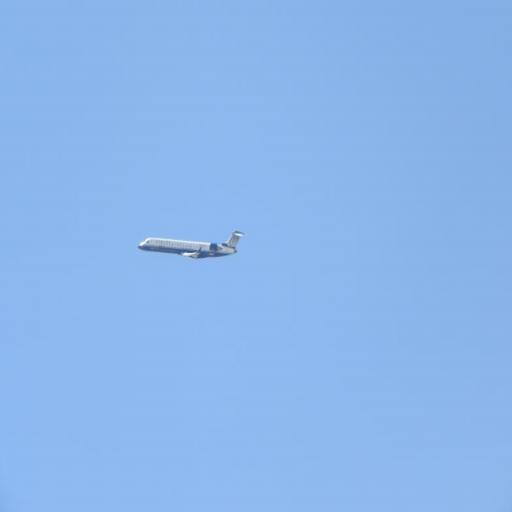aircraft: (138, 221, 246, 274)
